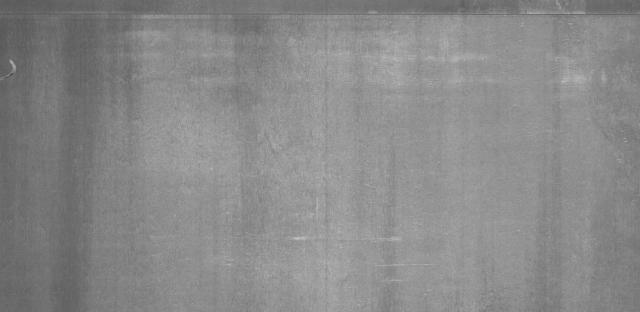welding_line: (2, 3, 640, 26)
